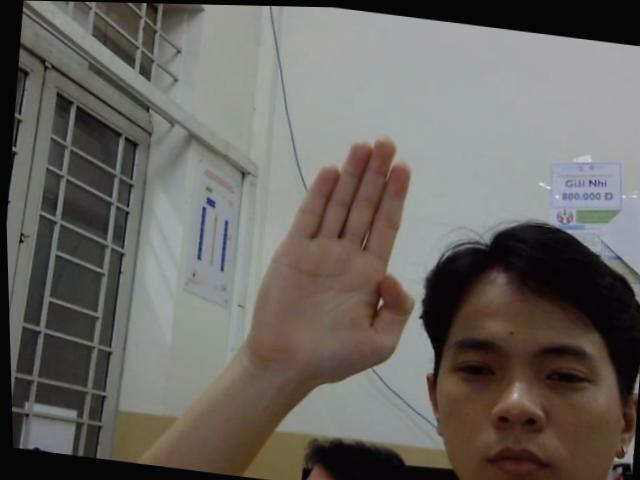B: (234, 126, 441, 393)
